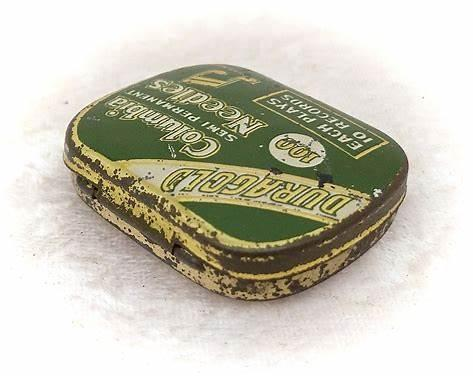metal: (64, 64, 409, 300)
